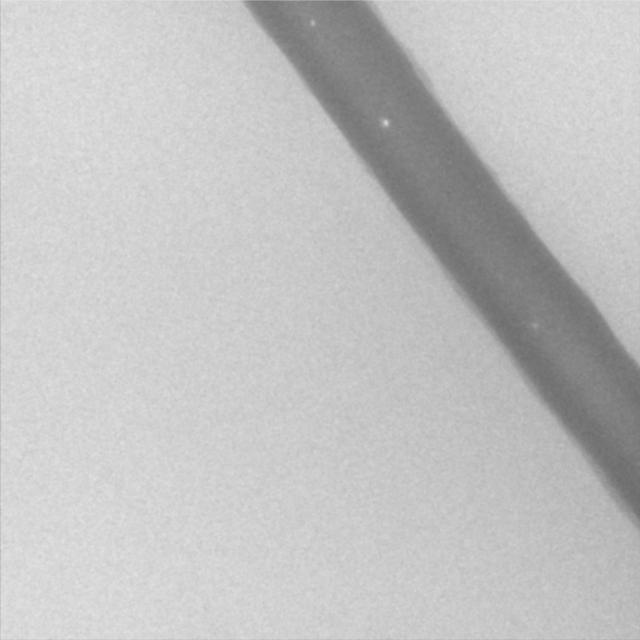air hole: (380, 117, 390, 128), (309, 18, 316, 27)
